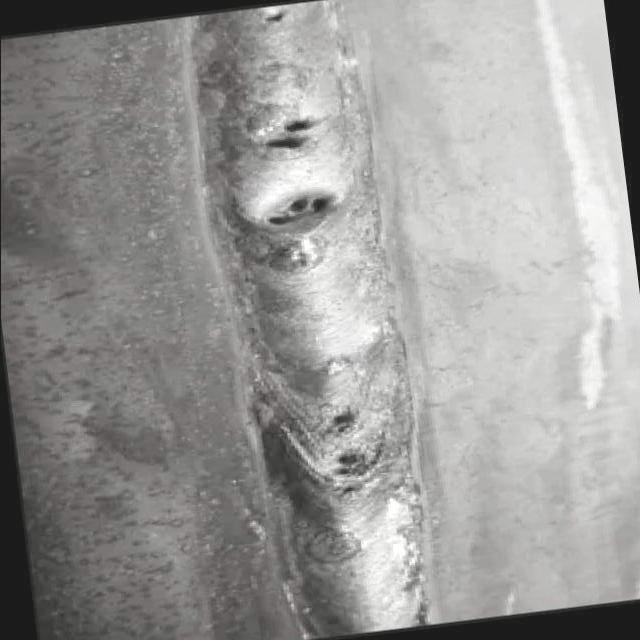defect: (257, 188, 344, 233), (253, 109, 330, 155), (328, 444, 370, 495), (321, 404, 368, 439), (258, 7, 290, 29)
